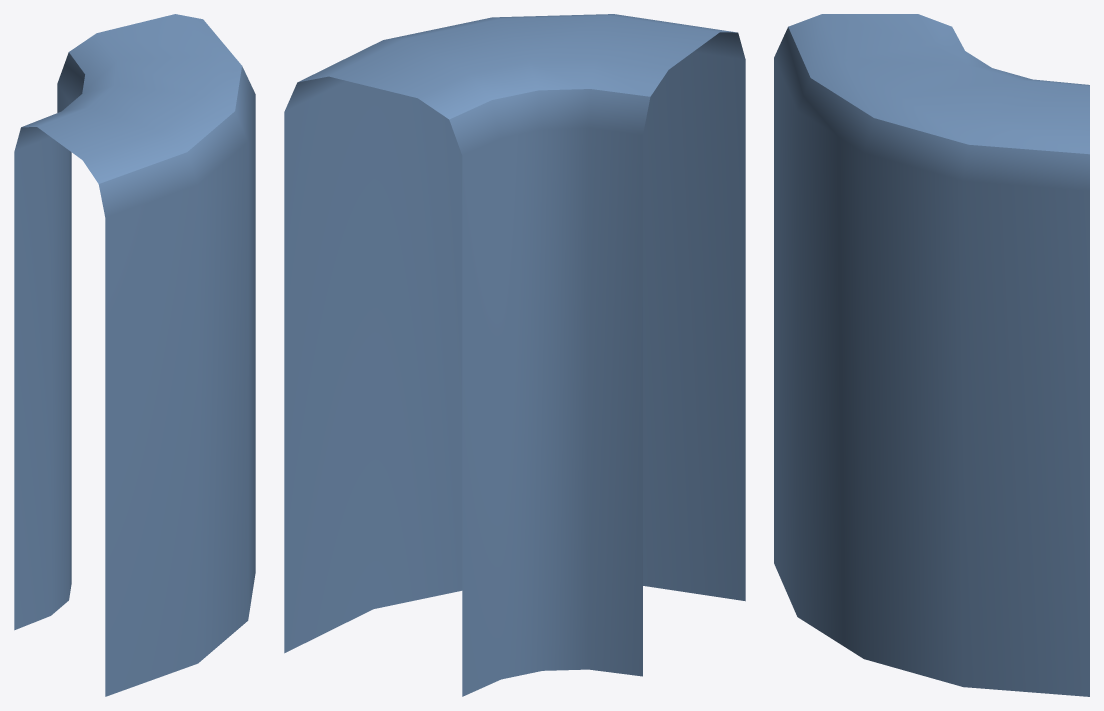
File: WallCorner.fbx
3 renders of one model, left to right at view 1: azimuth 30°, elevation 25°; view 2: azimuth 150°, elevation 25°; view 3: azimuth 270°, elevation 25°, orthographic. The views are drawn at different scales.
Parts seen in each view (by area): view 1: WallCorner; view 2: WallCorner; view 3: WallCorner.
Part boxes in pixels (<box>): WallCorner: <box>14,14,255,696</box>; WallCorner: <box>284,14,745,696</box>; WallCorner: <box>774,14,1089,696</box>.
Bounding box in the file's own units: 52.09 × 100 × 52.09.
